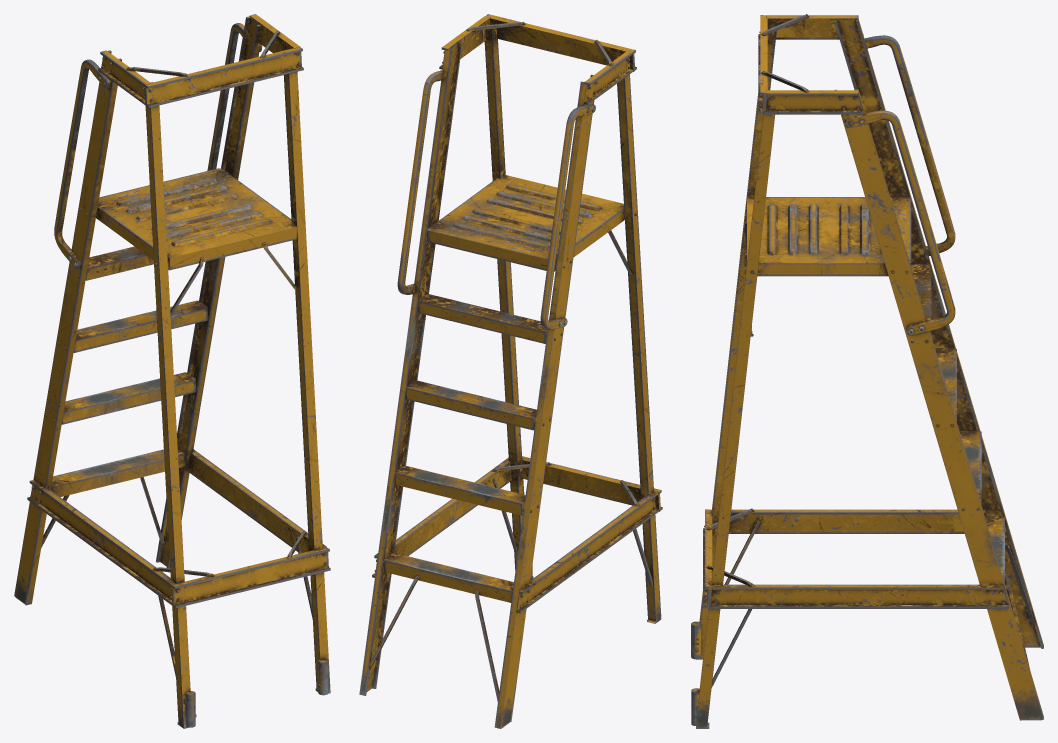
The model's file is ladder_metal_4_mb.glb.
The picture shows the model from 3 angles, left to right: view 1: azimuth 30°, elevation 25°; view 2: azimuth 150°, elevation 25°; view 3: azimuth 270°, elevation 25°; orthographic projection. The views are drawn at different scales.
Parts seen in each view (by area): view 1: object_8_object_8_0; view 2: object_8_object_8_0; view 3: object_8_object_8_0.
Boxes of the visible parts, left/top/right/bottom form: object_8_object_8_0: left=14, top=14, right=330, bottom=728; object_8_object_8_0: left=359, top=14, right=662, bottom=728; object_8_object_8_0: left=691, top=14, right=1043, bottom=728.
Size of the model in its own units: 0.7075 by 2.66 by 1.33.
1 material, 1 textured.
